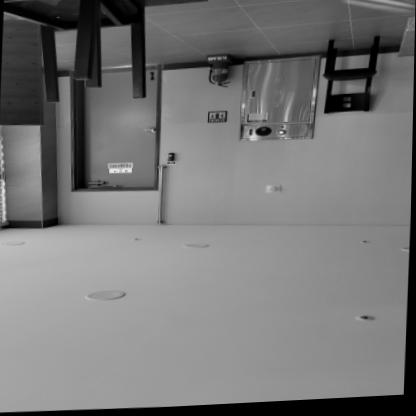FE: (205, 55, 234, 91)
